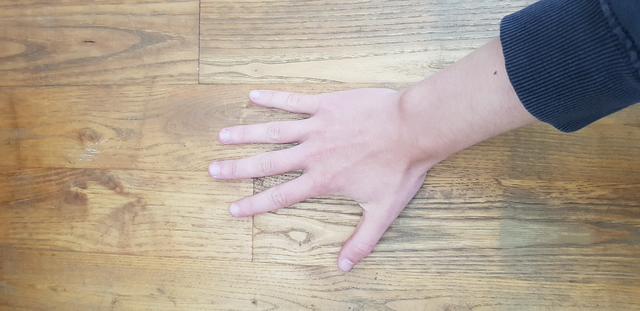Paper: (180, 66, 449, 275)
